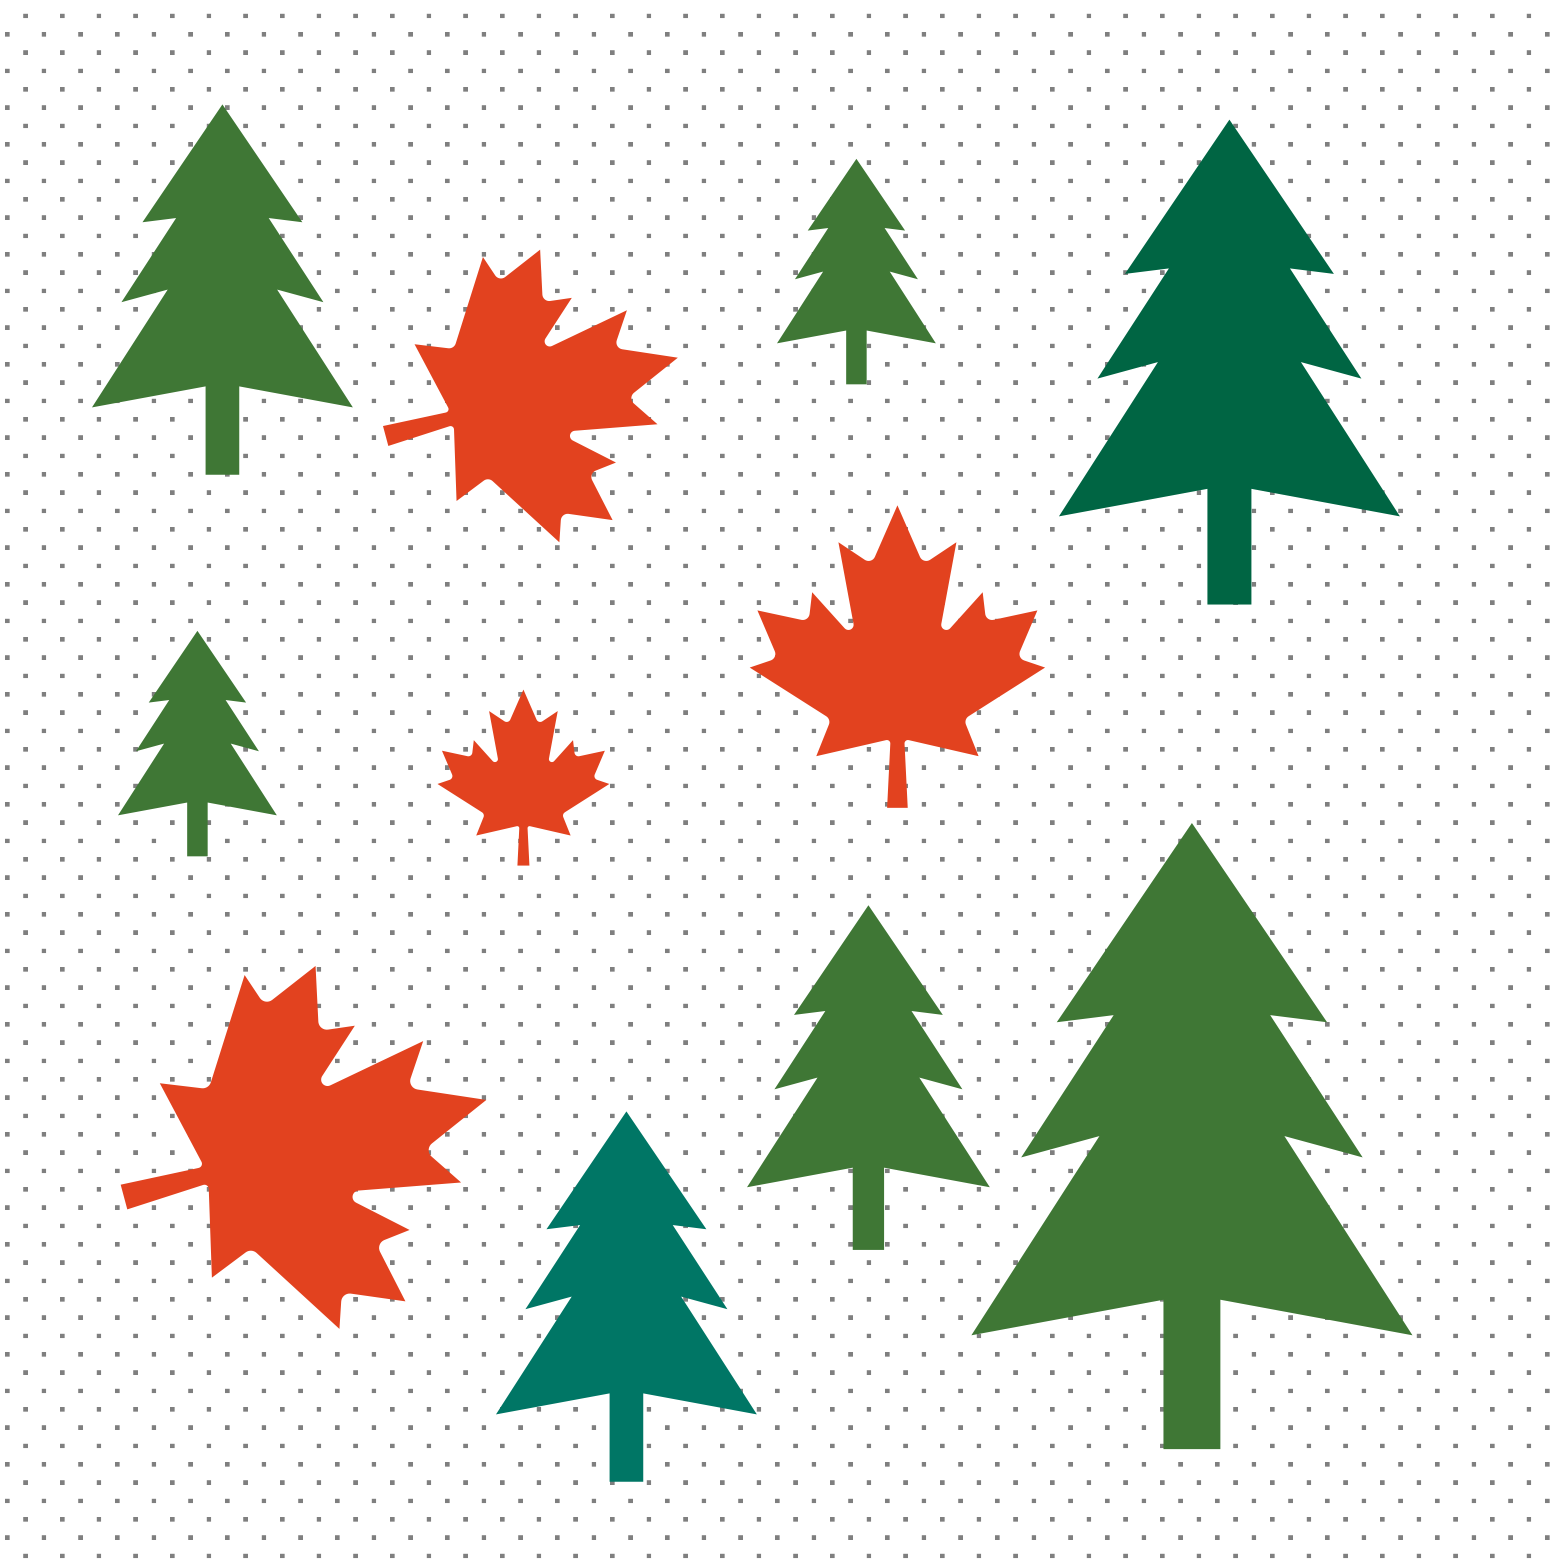leaf: (113, 958, 489, 1337), (741, 493, 1051, 812), (373, 245, 679, 548), (433, 681, 617, 875)
tree: (960, 820, 1425, 1456), (1051, 112, 1406, 618), (89, 99, 360, 483), (493, 1109, 760, 1488), (745, 901, 998, 1253), (109, 621, 286, 863), (777, 149, 943, 399)
